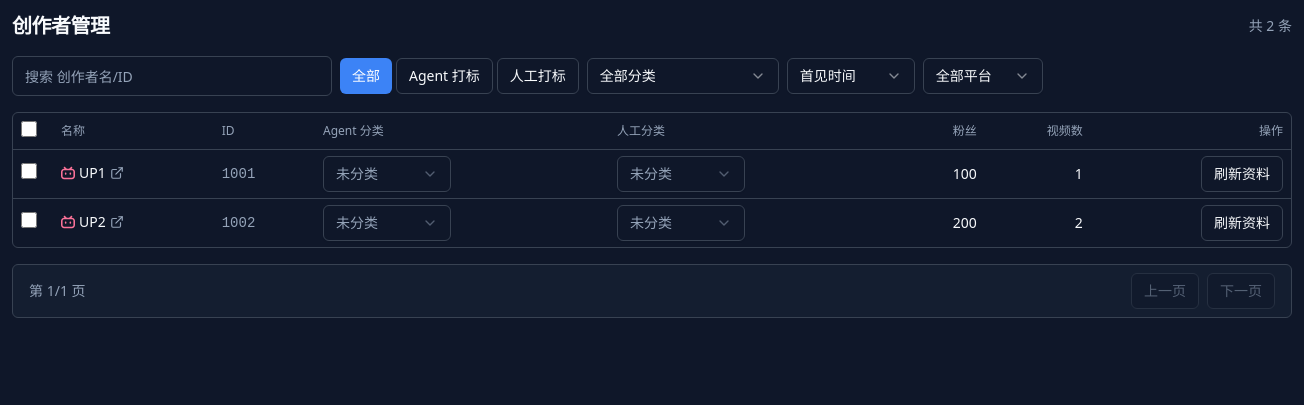
it: Q6a 两槽位均「不变」→ 应用禁用（防无意义请求）；取消选择清空勾选
expect the text "UP1" is shown: met, box [61,162,124,182]
Step 1. Click the checkbox named "选择 UP1" → (29, 171), box [21,163,37,179]
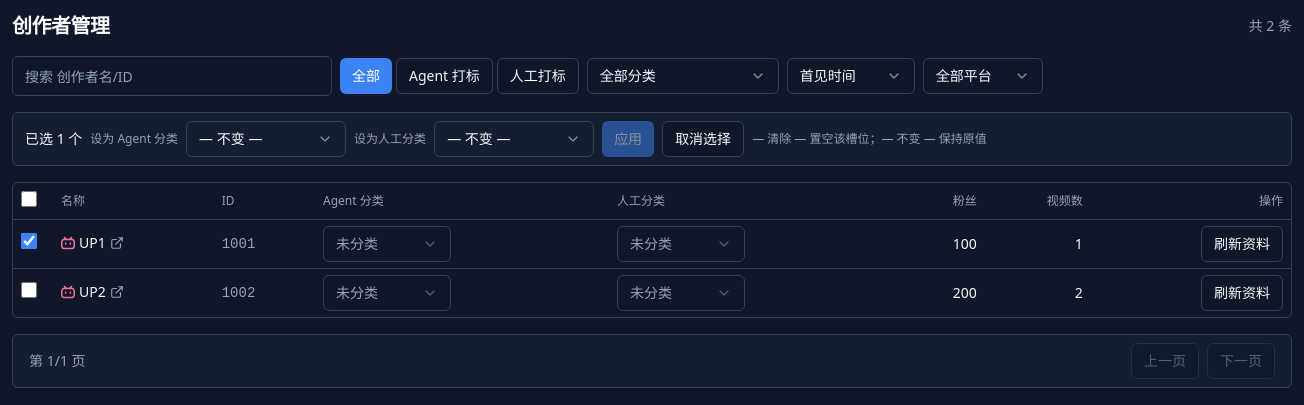
expect the text "已选 1 个" is shown: met, box [25,129,82,149]
expect the button "应用" is disabled: met, box [602,121,654,157]
Step 2. Click the button "取消选择" → (703, 139), box [662,121,744,157]
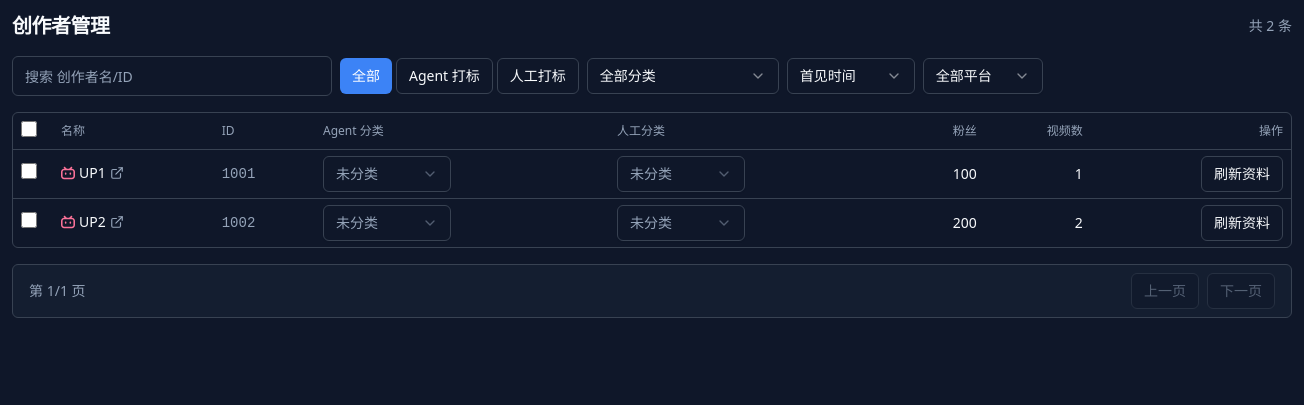
expect the checkbox named "选择 UP1" is not checked: met, box [21,163,37,179]
expect the text "已选 1 个" is gone: met
